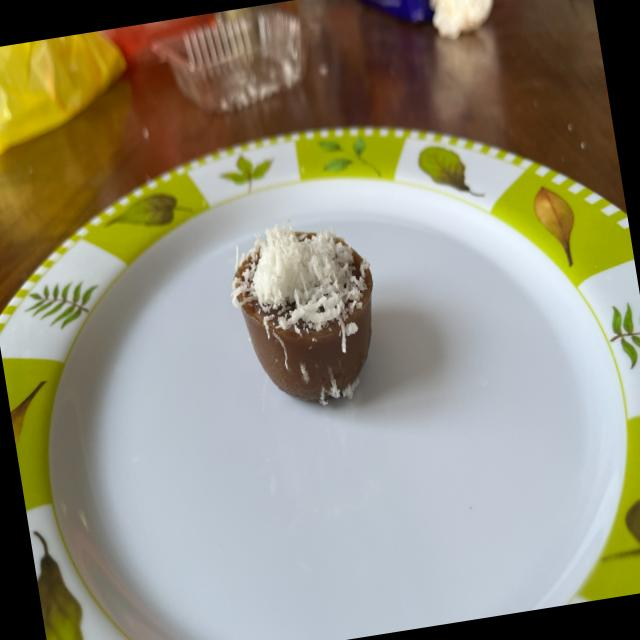Kuih lompang: (232, 224, 373, 405)
